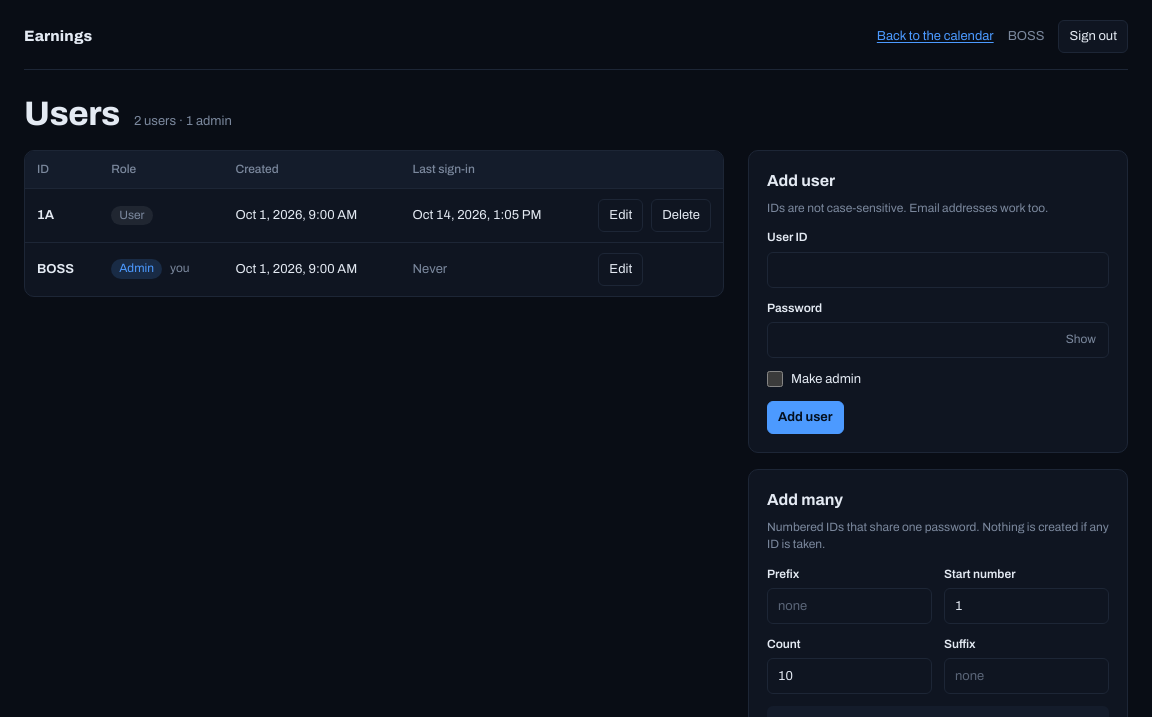
admin page › delete asks for confirmation inline; cancel keeps the user, confirm deletes
The width and height of the screenshot is (1152, 717).
Click the button "Delete": click(681, 215) [651,199,711,232]
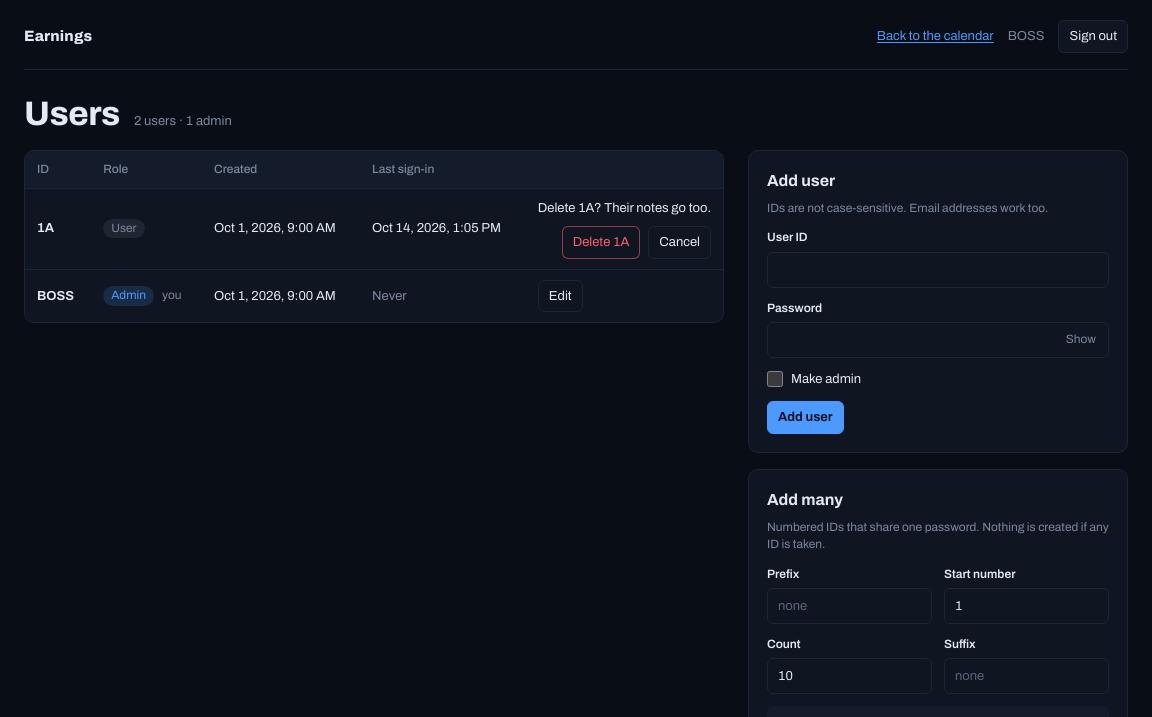
Result: the text "Delete 1A? Their notes go too." is shown at [538,199,711,218]
Click the button "Cancel": click(680, 242) [648,226,711,259]
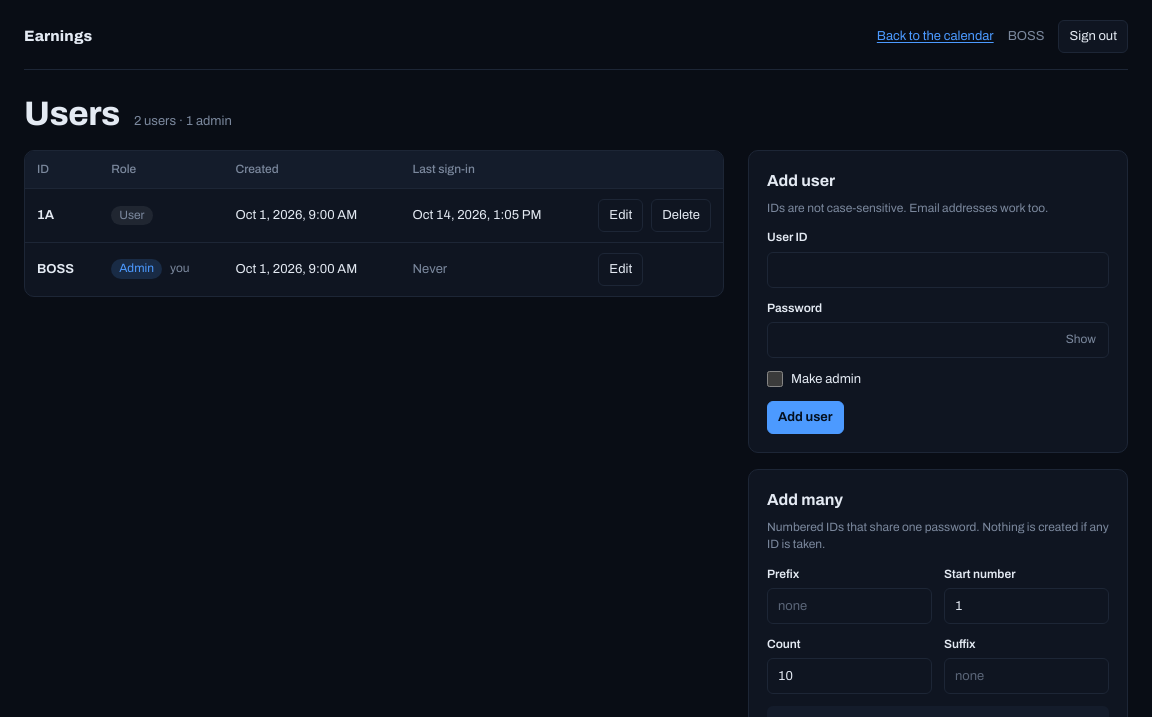
Result: the text "Delete 1A?" is gone
Click the button "Delete": click(681, 215) [651,199,711,232]
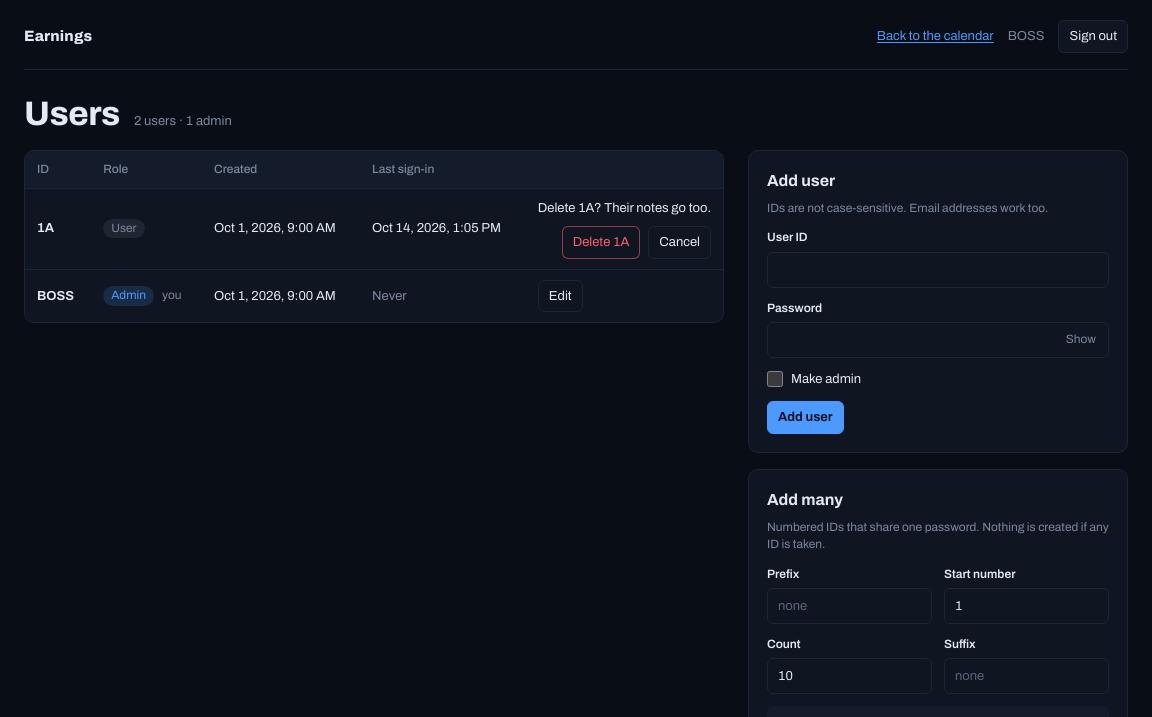
Click the button "Delete 1A": click(601, 242) [562,226,640,259]
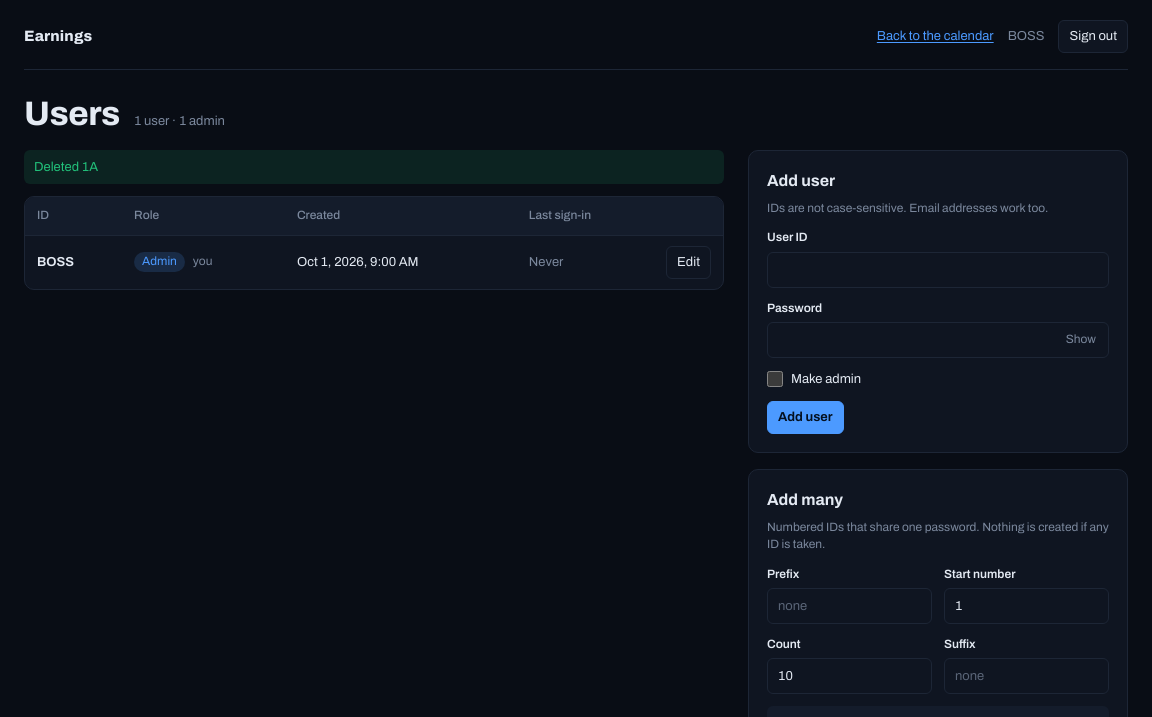
Result: the text "Deleted 1A" is shown at [24,150,724,184]
